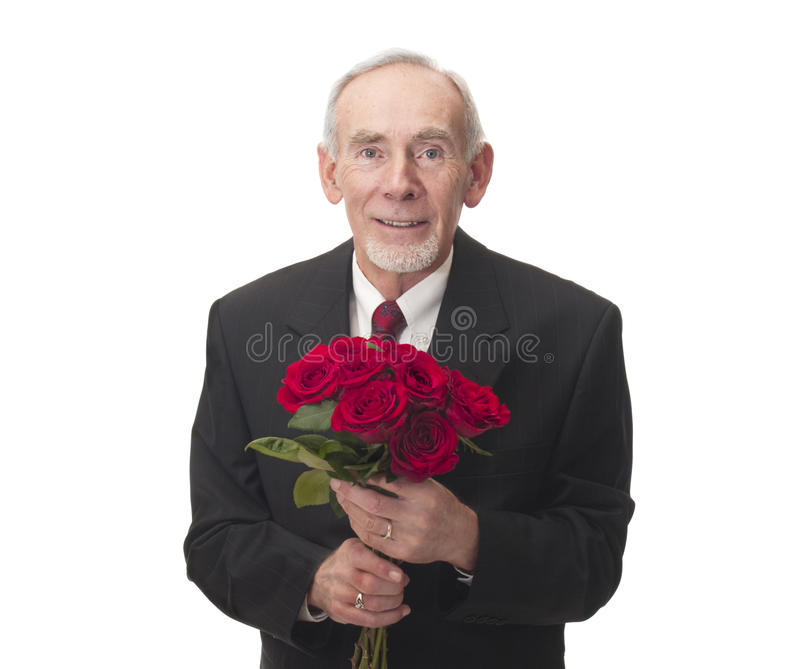RedRose: (436, 358, 519, 454), (330, 374, 416, 457), (393, 403, 464, 494), (280, 334, 360, 410)
